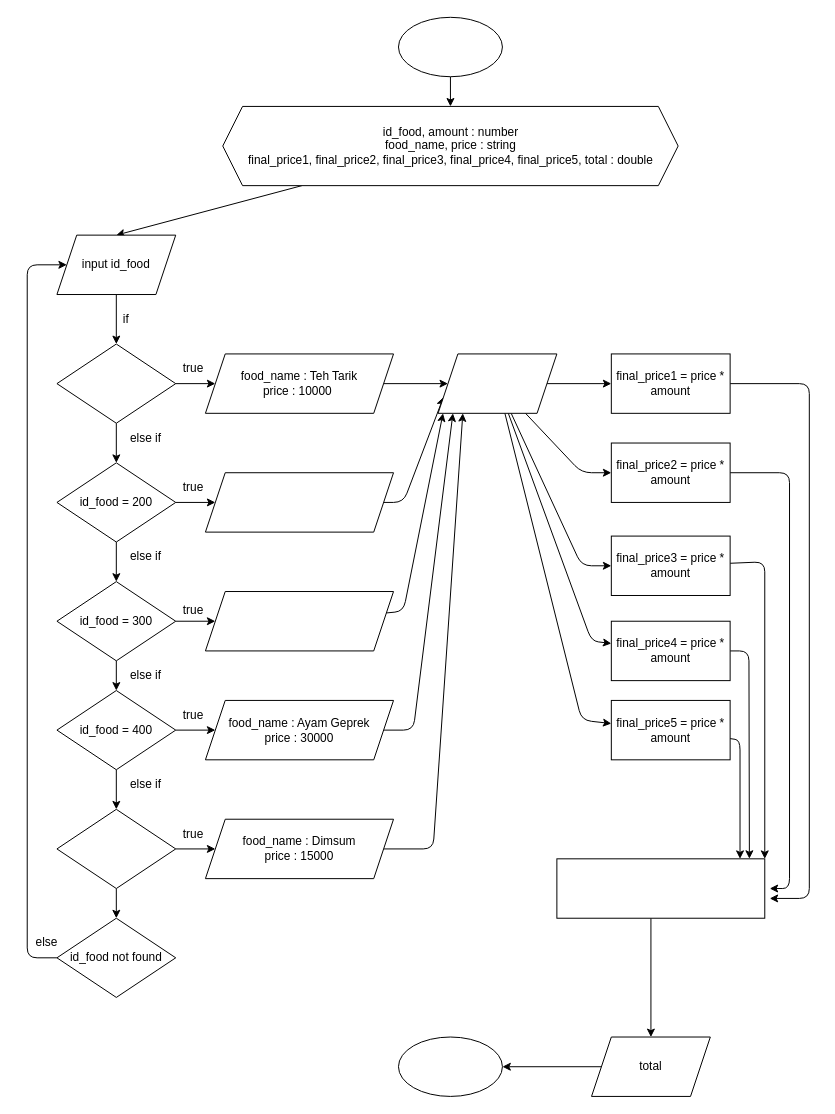
Some shapes in this 835 by 1114 pixel diagram are drawn without their labels. The centre of each missing label's shape, as x and y in pixels:
end: the point at 449,1066
food_name : Iced Coffee price : 15000: the point at 299,502
food_name : Nasi Goreng price : 15000: the point at 299,621
id_food = 100: the point at 116,383
id_food = 500: the point at 116,848
input amount: the point at 497,383
start: the point at 449,46
total = final_price1 + final_price2 + final_price3 + final_price4 + final_price5: the point at 660,888
